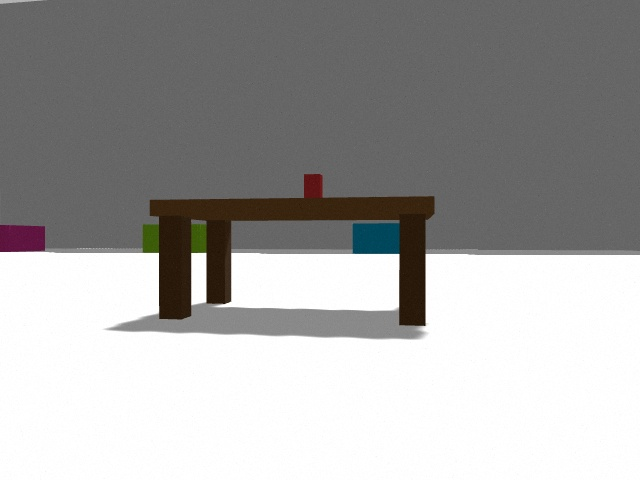blue_drop_zone: (353, 223, 399, 254)
green_drop_zone: (143, 224, 159, 253), (192, 224, 206, 253)
red_drop_zone: (0, 225, 45, 252)
